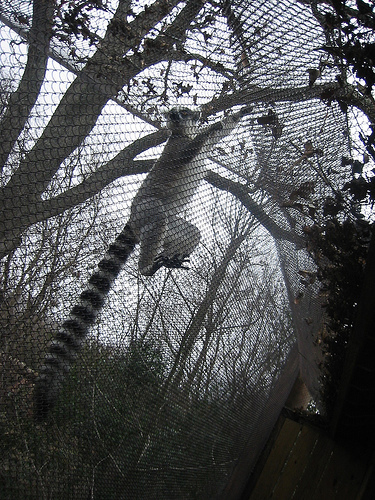cat: (13, 100, 265, 431)
